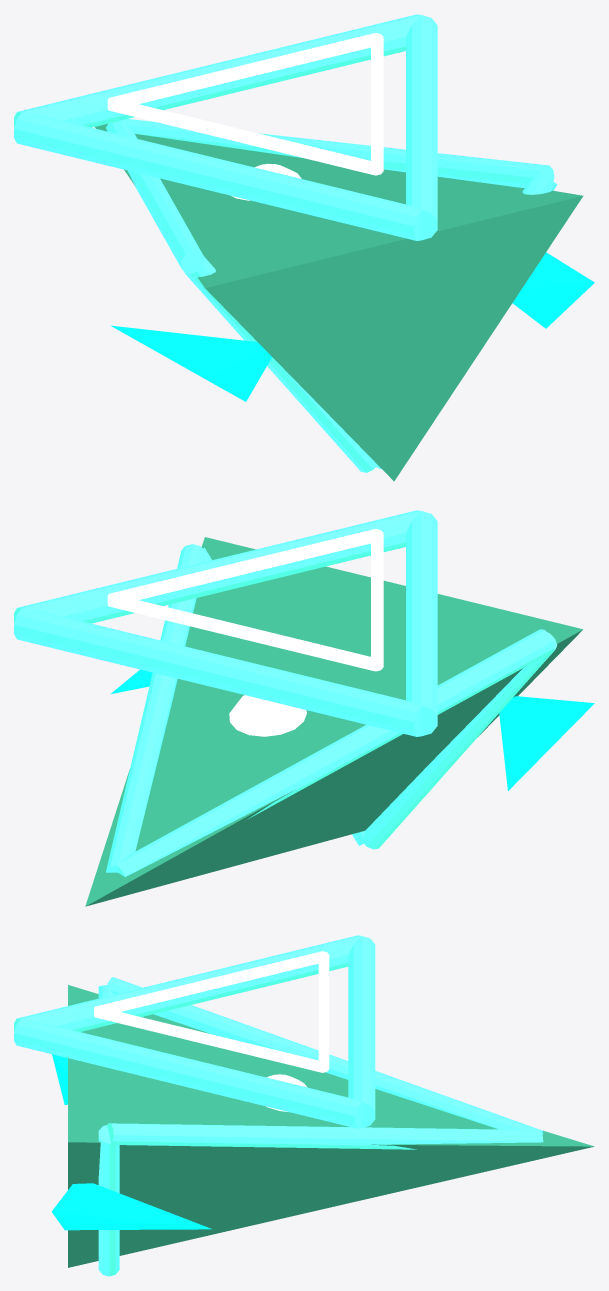
The model's file is chaser.glb.
3 views of the same model, one above another, from view 1: azimuth 30°, elevation 25°; view 2: azimuth 150°, elevation 25°; view 3: azimuth 270°, elevation 25° (orthographic). The views are drawn at different scales.
Parts seen in each view (by area): view 1: ChaserArrowDarkTetraBody, ChaserReadabilityTriangleRoute2, ChaserReadabilityTriangleRoute1, ChaserReadabilityTriangleRoute0, ChaserGreenEdge0, ChaserRearLeftFin, ChaserReadabilityWhiteCoreRoute2, ChaserReadabilityWhiteCoreRoute1, ChaserRearRightFin, ChaserGreenEdge2, ChaserGreenEdge3, ChaserReadabilityWhiteCoreRoute0; view 2: ChaserArrowDarkTetraBody, ChaserReadabilityTriangleRoute1, ChaserGreenEdge3, ChaserReadabilityTriangleRoute0, ChaserReadabilityTriangleRoute2, ChaserGreenEdge0, ChaserRearLeftFin, ChaserGreenEdge2, ChaserReadabilityWhiteCoreRoute1, ChaserReadabilityWhiteCoreRoute0, ChaserWhiteCore, ChaserReadabilityWhiteCoreRoute2; view 3: ChaserArrowDarkTetraBody, ChaserReadabilityTriangleRoute0, ChaserGreenEdge0, ChaserReadabilityTriangleRoute2, ChaserGreenEdge3, ChaserReadabilityTriangleRoute1, ChaserRearRightFin, ChaserReadabilityWhiteCoreRoute0, ChaserReadabilityWhiteCoreRoute2, ChaserGreenEdge1, ChaserReadabilityWhiteCoreRoute1, ChaserRearLeftFin.
Boxes of the visible parts, <box> form: ChaserArrowDarkTetraBody: <box>95,124,583,481</box>; ChaserReadabilityTriangleRoute2: <box>14,112,421,240</box>; ChaserReadabilityTriangleRoute1: <box>14,14,421,127</box>; ChaserReadabilityTriangleRoute0: <box>406,15,437,240</box>; ChaserGreenEdge0: <box>121,119,554,187</box>; ChaserRearLeftFin: <box>111,325,271,401</box>; ChaserReadabilityWhiteCoreRoute2: <box>107,98,377,175</box>; ChaserReadabilityWhiteCoreRoute1: <box>107,33,376,104</box>; ChaserRearRightFin: <box>512,252,594,328</box>; ChaserGreenEdge2: <box>184,255,377,472</box>; ChaserGreenEdge3: <box>106,120,203,271</box>; ChaserReadabilityWhiteCoreRoute0: <box>371,33,383,175</box>; ChaserArrowDarkTetraBody: <box>85,537,582,906</box>; ChaserReadabilityTriangleRoute1: <box>14,608,421,736</box>; ChaserGreenEdge3: <box>115,629,554,877</box>; ChaserReadabilityTriangleRoute0: <box>14,510,421,623</box>; ChaserReadabilityTriangleRoute2: <box>406,511,437,735</box>; ChaserGreenEdge0: <box>106,544,204,872</box>; ChaserRearLeftFin: <box>499,696,594,790</box>; ChaserGreenEdge2: <box>363,632,557,849</box>; ChaserReadabilityWhiteCoreRoute1: <box>107,594,377,671</box>; ChaserReadabilityWhiteCoreRoute0: <box>107,529,376,599</box>; ChaserWhiteCore: <box>229,695,306,736</box>; ChaserReadabilityWhiteCoreRoute2: <box>371,529,383,670</box>; ChaserArrowDarkTetraBody: <box>68,985,594,1267</box>; ChaserReadabilityTriangleRoute0: <box>14,1019,361,1128</box>; ChaserGreenEdge0: <box>107,1123,543,1149</box>; ChaserReadabilityTriangleRoute2: <box>14,935,361,1031</box>; ChaserGreenEdge3: <box>107,977,543,1134</box>; ChaserReadabilityTriangleRoute1: <box>348,936,375,1127</box>; ChaserRearRightFin: <box>51,1183,211,1230</box>; ChaserReadabilityWhiteCoreRoute0: <box>94,1007,323,1072</box>; ChaserReadabilityWhiteCoreRoute2: <box>94,951,323,1011</box>; ChaserGreenEdge1: <box>98,1125,119,1276</box>; ChaserReadabilityWhiteCoreRoute1: <box>318,951,329,1072</box>; ChaserRearLeftFin: <box>52,1054,67,1104</box>.
Size of the model in its own units: 1.52 by 1.07 by 2.12.
